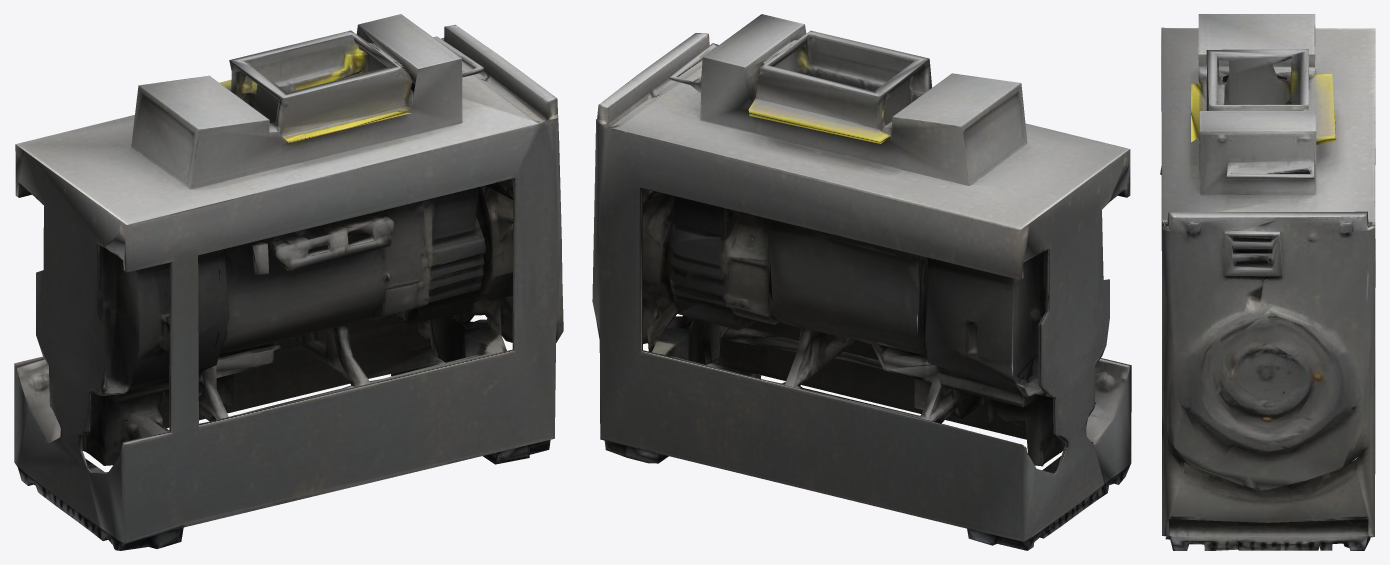
The model's file is generator.glb.
3 renders of one model, left to right at view 1: azimuth 30°, elevation 25°; view 2: azimuth 150°, elevation 25°; view 3: azimuth 270°, elevation 25°, orthographic. The views are drawn at different scales.
Visible parts, largest first — view 1: generator; view 2: generator; view 3: generator.
Boxes of the visible parts, box(x1,y1,x2,y2) form: generator: box(14, 14, 563, 550); generator: box(592, 14, 1131, 550); generator: box(1160, 14, 1375, 550).
Size of the model in its own units: 0.9739 by 0.8204 by 0.4164.
1 material, 1 textured.
